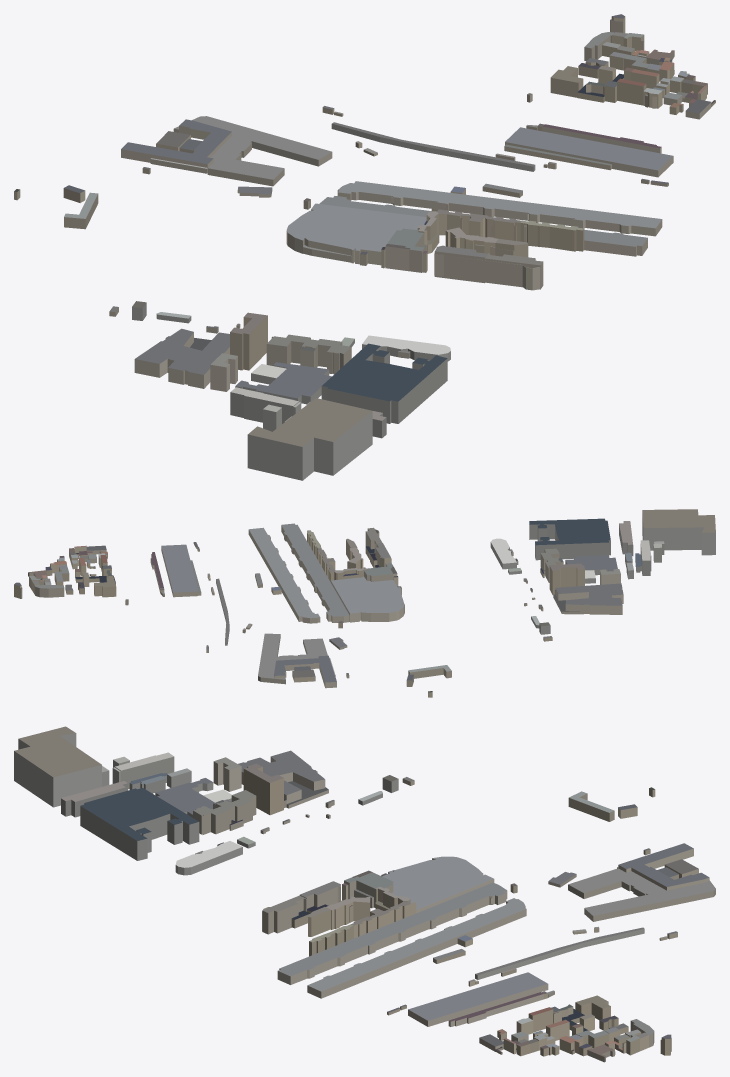
3 views of the same model, one above another, from view 1: azimuth 30°, elevation 25°; view 2: azimuth 150°, elevation 25°; view 3: azimuth 270°, elevation 25° (orthographic). The views are drawn at different scales.
Visible parts, largest first — view 1: tuile; view 2: tuile; view 3: tuile.
Part boxes in pixels (x1,y1,x2,y2): tuile: (14,14,715,480); tuile: (14,509,715,697); tuile: (14,726,715,1062).
Bounding box in the file's own units: 1110 × 55.67 × 1040.
